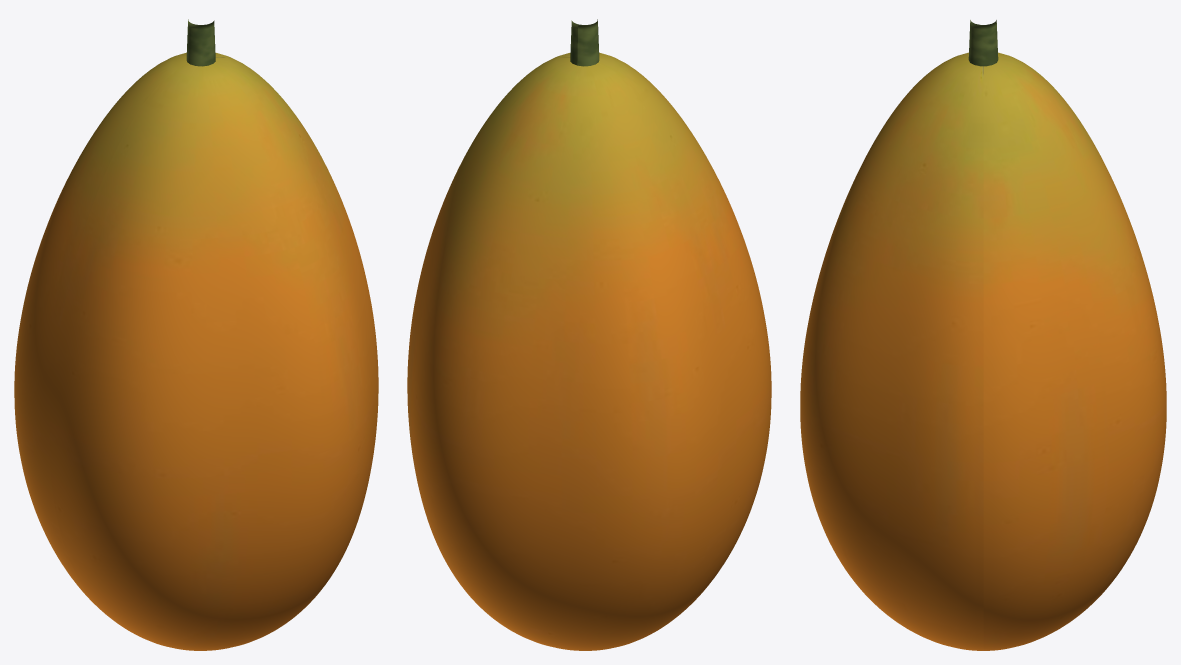
The model's file is papaye.glb.
3 views of the same model, side by side, from view 1: azimuth 30°, elevation 25°; view 2: azimuth 150°, elevation 25°; view 3: azimuth 270°, elevation 25° (orthographic).
Parts seen in each view (by area): view 1: moitie_A_peau, entier_peau, moitie_B_peau, entier_extra0; view 2: moitie_B_peau, entier_peau, moitie_A_peau, entier_extra0; view 3: entier_peau, moitie_A_peau, moitie_B_peau, entier_extra0.
Boxes of the visible parts, <box> form: moitie_A_peau: <box>49,57,378,650</box>; entier_peau: <box>14,52,378,650</box>; moitie_B_peau: <box>14,53,242,615</box>; entier_extra0: <box>186,19,215,66</box>; moitie_B_peau: <box>407,57,736,650</box>; entier_peau: <box>407,52,771,650</box>; moitie_A_peau: <box>543,53,771,615</box>; entier_extra0: <box>570,19,599,66</box>; entier_peau: <box>800,53,1166,650</box>; moitie_A_peau: <box>800,52,983,650</box>; moitie_B_peau: <box>983,52,1166,650</box>; entier_extra0: <box>968,20,998,66</box>.
Size of the model in its own units: 0.0961 by 0.181 by 0.0972.
Materials: 3 (3 with a texture image).
